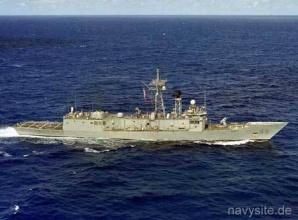warship: (6, 85, 290, 141)
